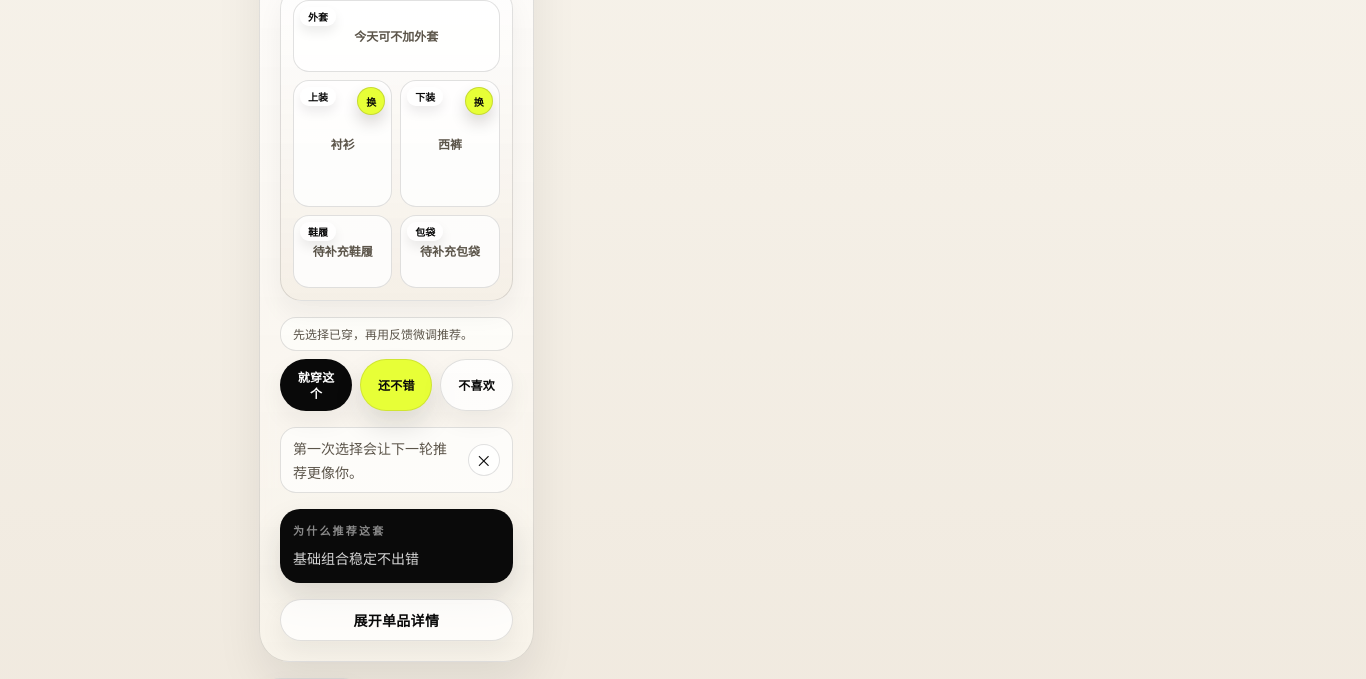
Scenario: TodayPage › keeps the card expanded and shows inline error when positive feedback fails
This screenshot has width=1366, height=679.
(page scrolled)
Click the button "还不错".
click(396, 385)  # box [360,359,432,411]
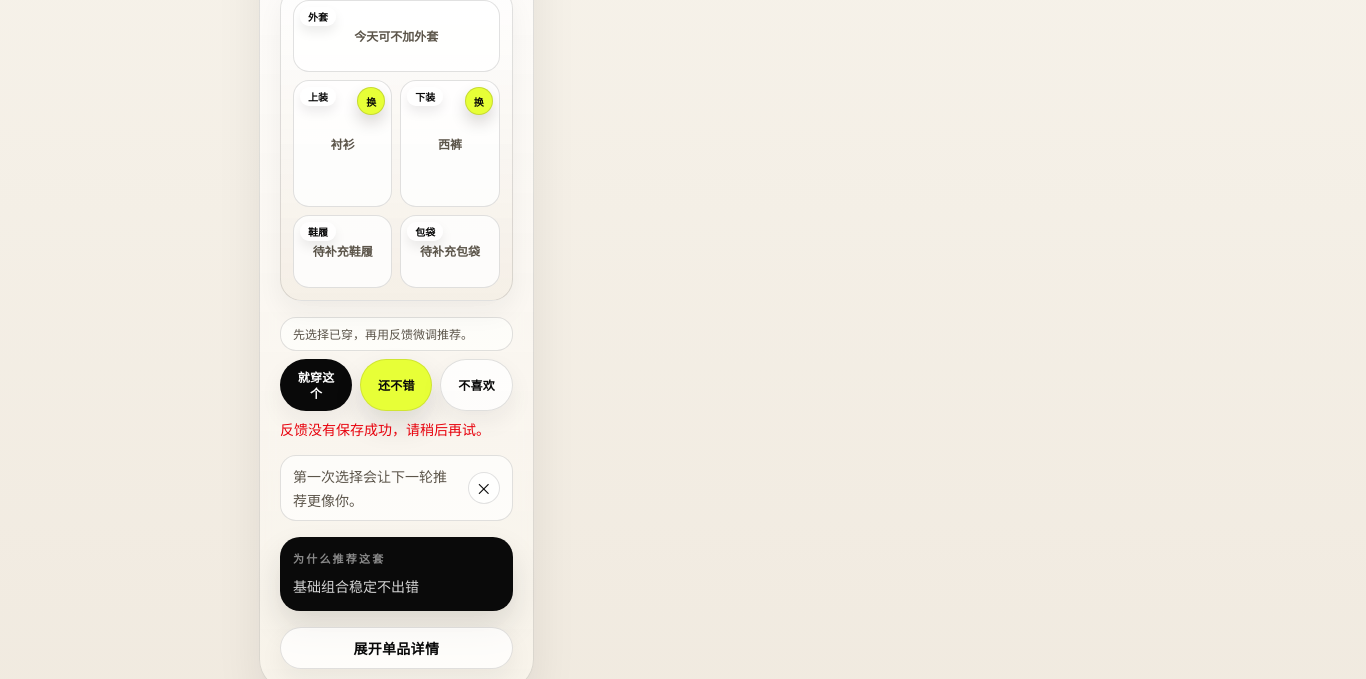
Expected: the text "反馈没有保存成功，请稍后再试。" is shown, [280,419,513,439]
